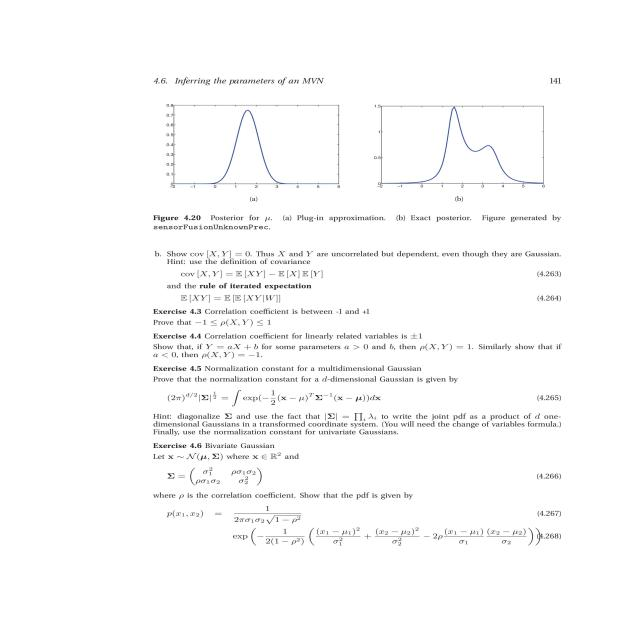diagram: (122, 62, 578, 243)
